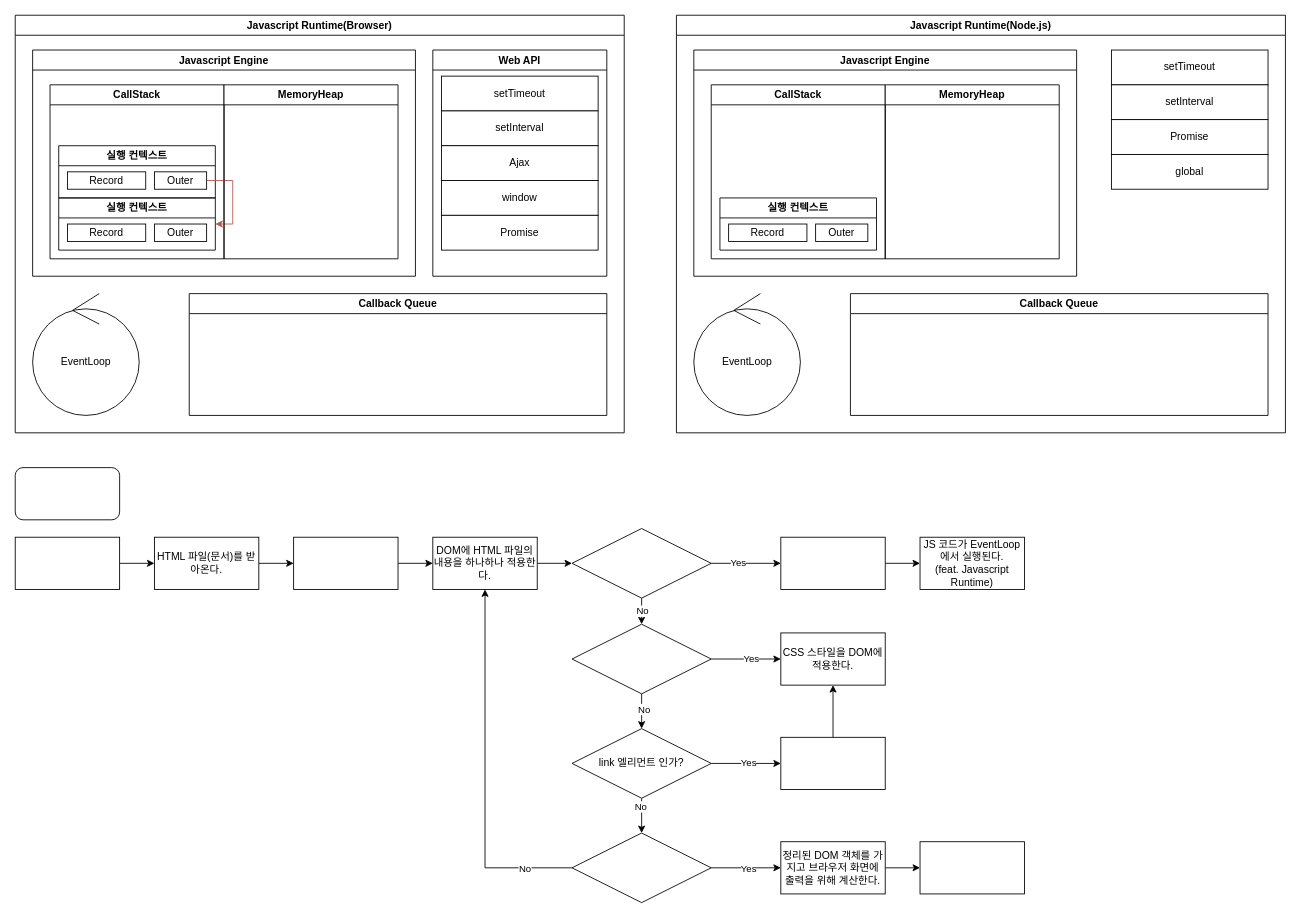
Image size: 1301x918. Some labels were removed from this diagram. Here are the shapes that lost their labels. From the top down, the centre of each, then its label:
point 67,493: HTML을 브라우저에서 어떻게 읽어낼까?
point 67,562: window 객체를 만든다.
point 345,562: DOM 객체 만든다.(document)
point 641,563: script 엘리먼트 인가?
point 832,562: Javascript Runtime의 EventLoop에게 코드를 전달
point 641,658: style 엘리먼트 인가?
point 832,763: CSS 파일을 가져온다.
point 641,867: HTML 파일을 모두 읽었는가?
point 971,867: 출력한다.
